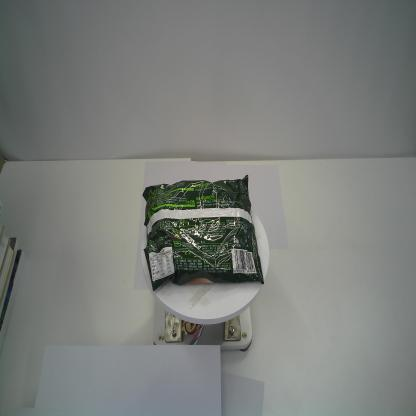Instant Noodles: (142, 174, 265, 294)
